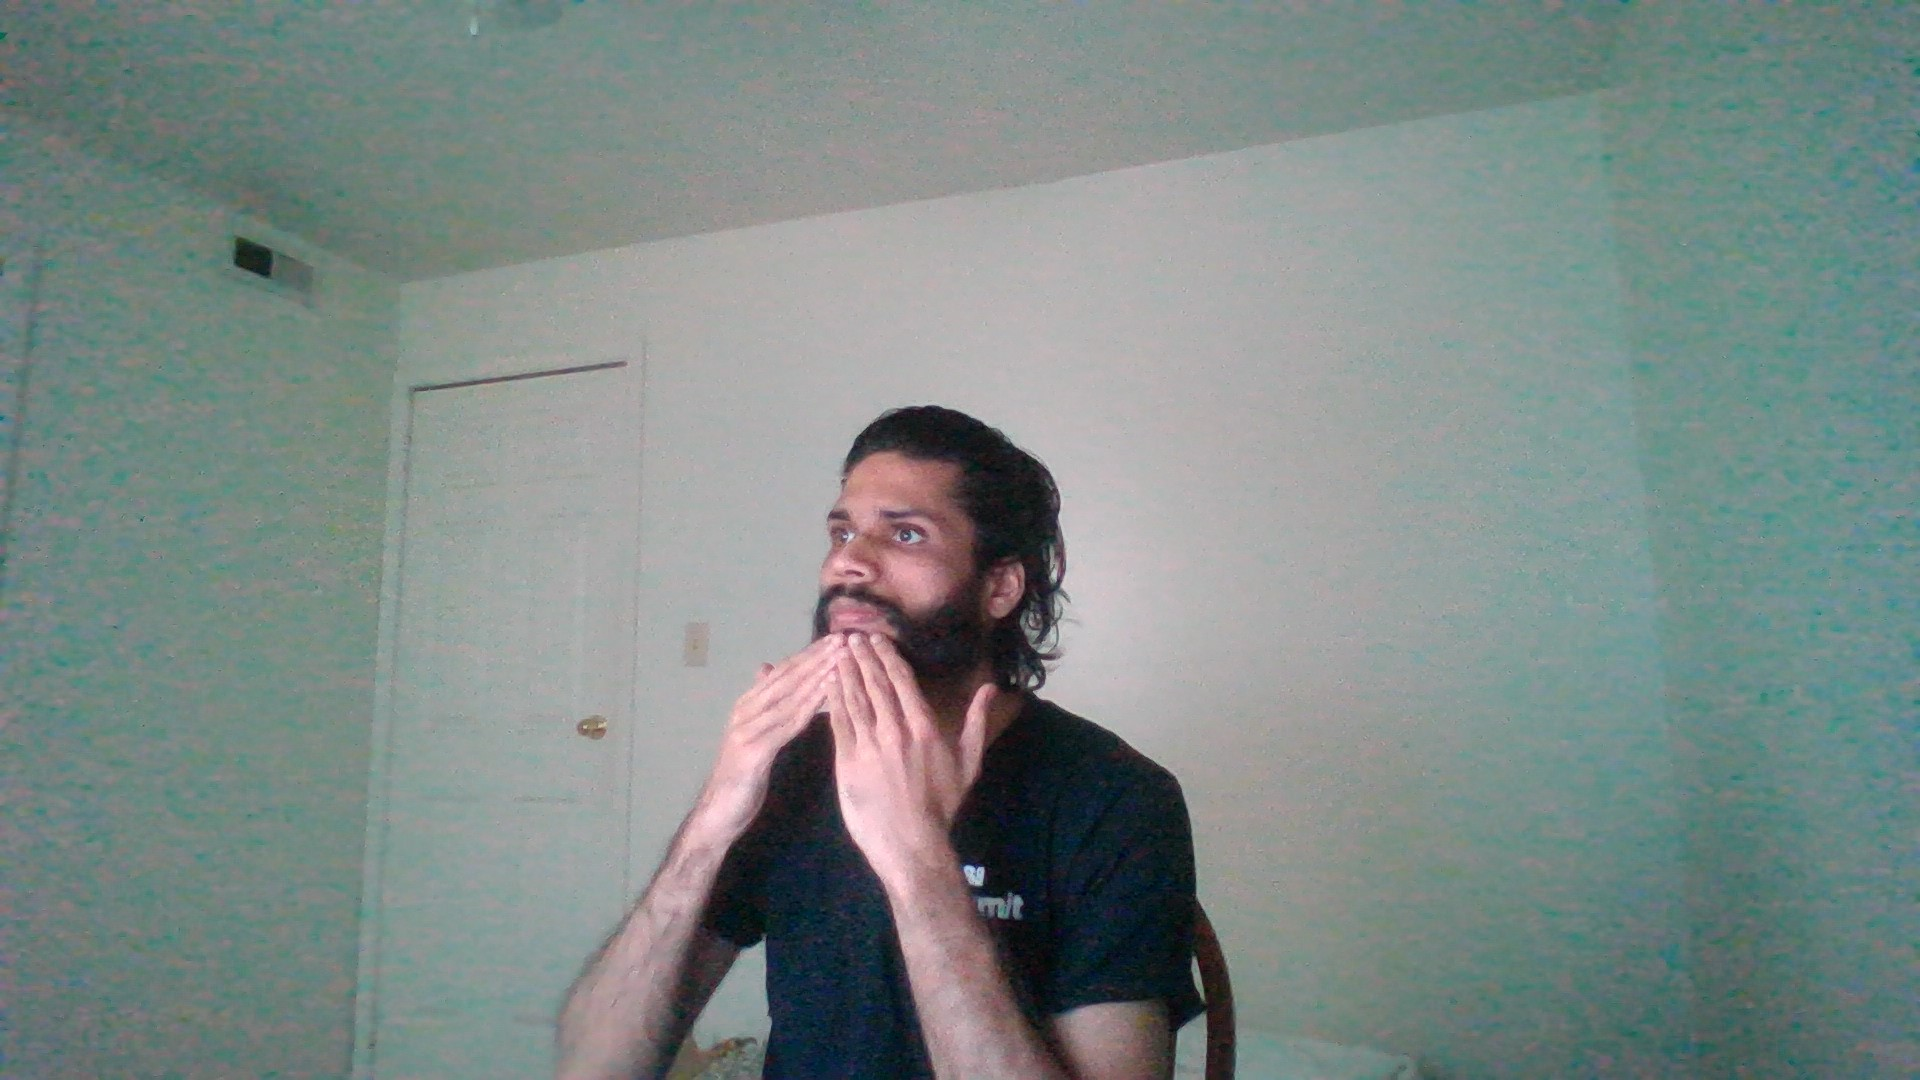Thank You: (675, 597, 1013, 874)
